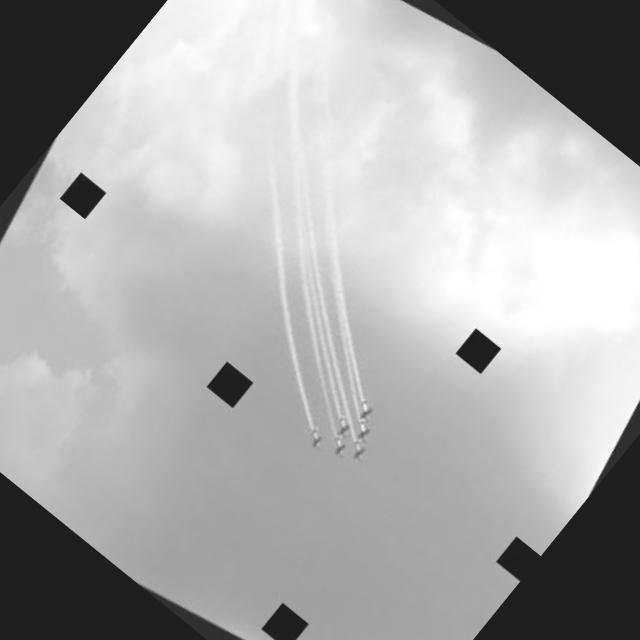aeroplane: (355, 400, 379, 425), (353, 423, 375, 445), (348, 443, 369, 465), (327, 438, 348, 459), (335, 419, 354, 438), (305, 433, 323, 452)
